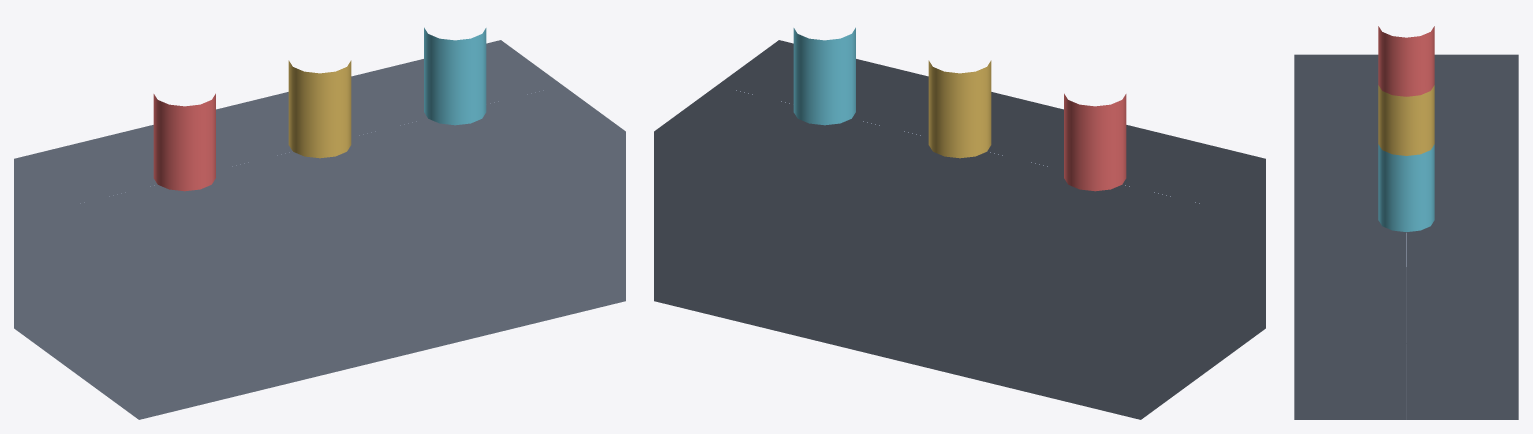
The model's file is three_phase_circuit.glb.
The picture shows the model from 3 angles, left to right: view 1: azimuth 30°, elevation 25°; view 2: azimuth 150°, elevation 25°; view 3: azimuth 270°, elevation 25°; orthographic projection. The views are drawn at different scales.
Parts seen in each view (by area): view 1: ThreePhaseTerminalBlock, PhaseL2Stud, PhaseL1Stud, PhaseL3Stud; view 2: ThreePhaseTerminalBlock, PhaseL2Stud, PhaseL1Stud, PhaseL3Stud; view 3: ThreePhaseTerminalBlock, PhaseL3Stud, PhaseL1Stud, PhaseL2Stud.
Part boxes in pixels (x1,y1,x2,y2): ThreePhaseTerminalBlock: (14, 40, 625, 419); PhaseL2Stud: (288, 60, 351, 158); PhaseL1Stud: (153, 93, 215, 191); PhaseL3Stud: (424, 27, 486, 125); ThreePhaseTerminalBlock: (654, 40, 1265, 419); PhaseL2Stud: (928, 60, 991, 158); PhaseL1Stud: (1064, 93, 1126, 191); PhaseL3Stud: (793, 27, 855, 125); ThreePhaseTerminalBlock: (1294, 54, 1518, 419); PhaseL3Stud: (1378, 144, 1434, 231); PhaseL1Stud: (1378, 26, 1434, 96); PhaseL2Stud: (1378, 85, 1434, 155).
Bounding box in the file's own units: 1.8 × 0.9 × 0.8.
